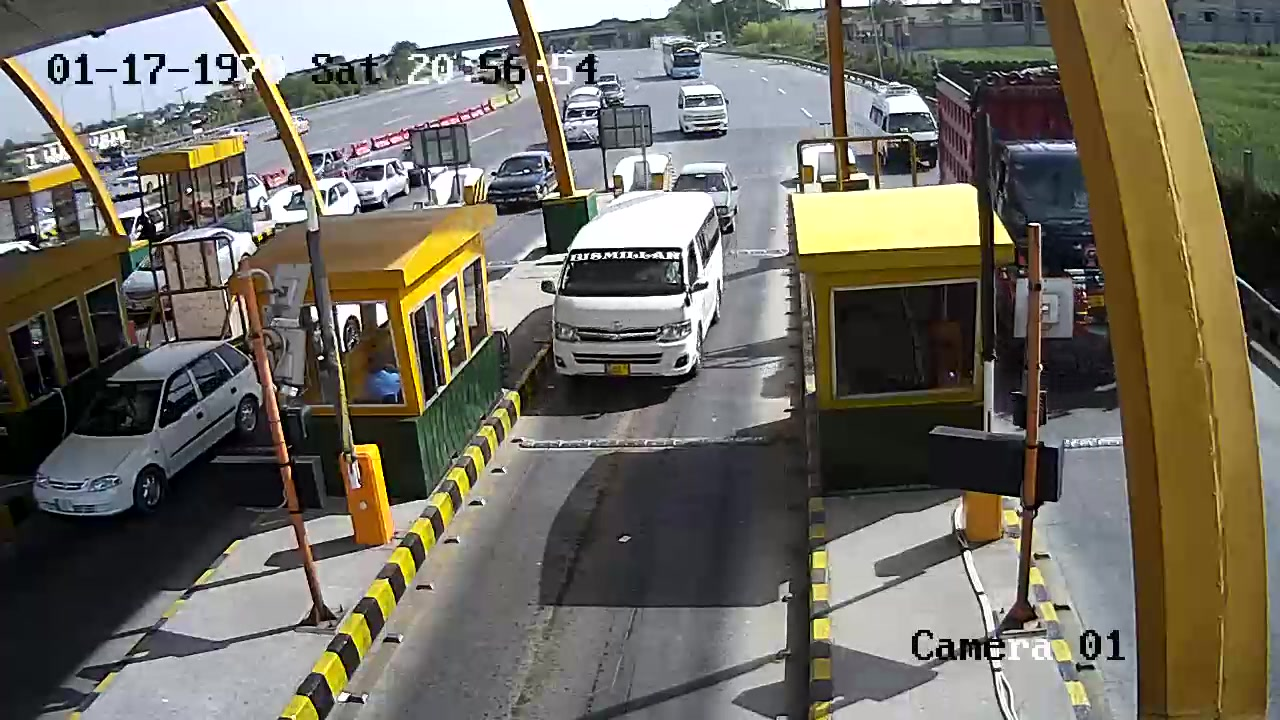F2: (530, 189, 734, 401)
